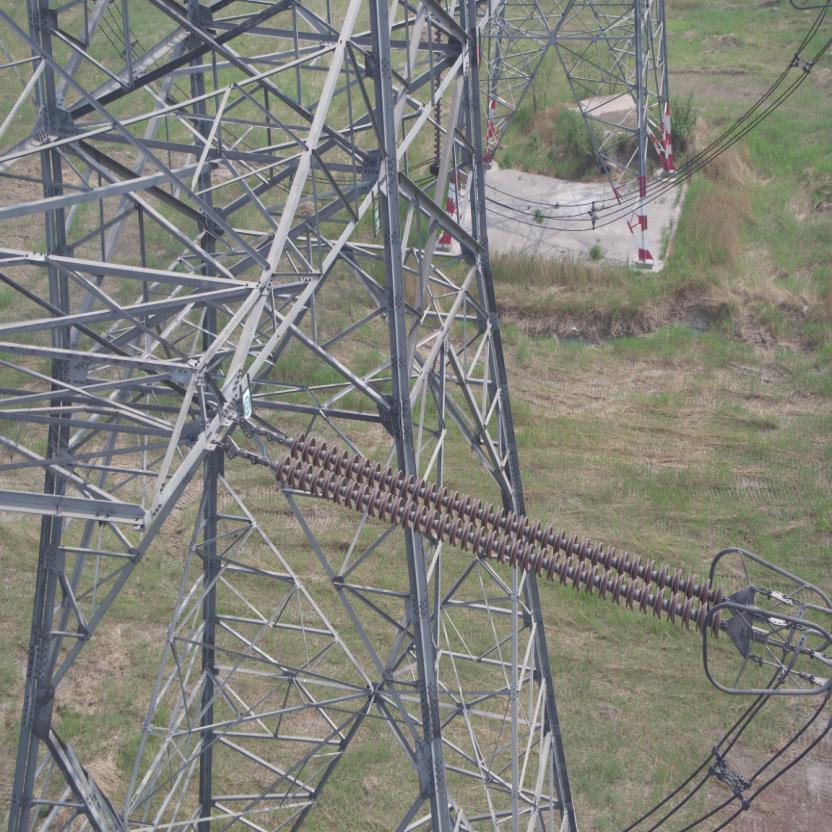insulator: (257, 425, 738, 641)
